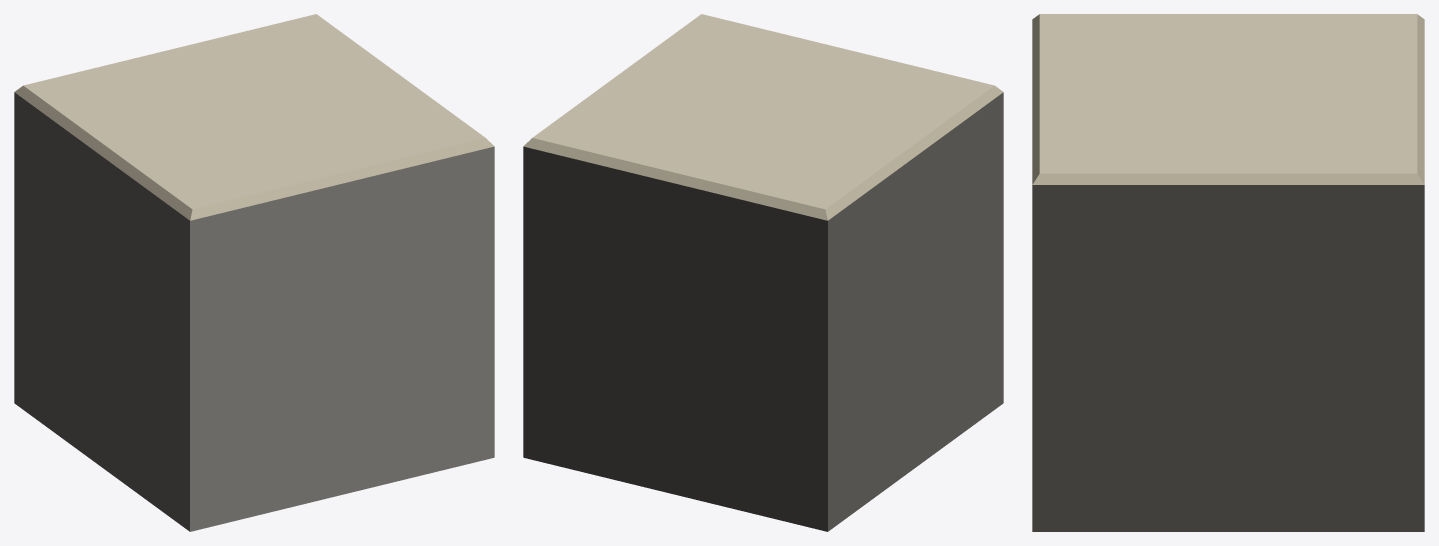
The model's file is slate cube.FBX.
3 renders of one model, left to right at view 1: azimuth 30°, elevation 25°; view 2: azimuth 150°, elevation 25°; view 3: azimuth 270°, elevation 25°, orthographic. The views are drawn at different scales.
Visible parts, largest first — view 1: slate cube; view 2: slate cube; view 3: slate cube.
Part boxes in pixels (x1=…): slate cube: x1=14, y1=14, x2=494, y2=531; slate cube: x1=523, y1=14, x2=1003, y2=531; slate cube: x1=1032, y1=14, x2=1424, y2=531.
Size of the model in its own units: 100 by 100 by 100.
